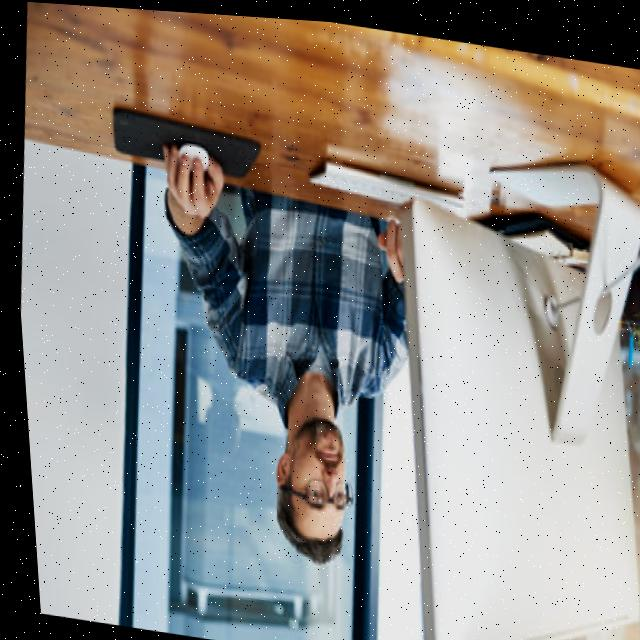desktop-person: (118, 73, 640, 640)
